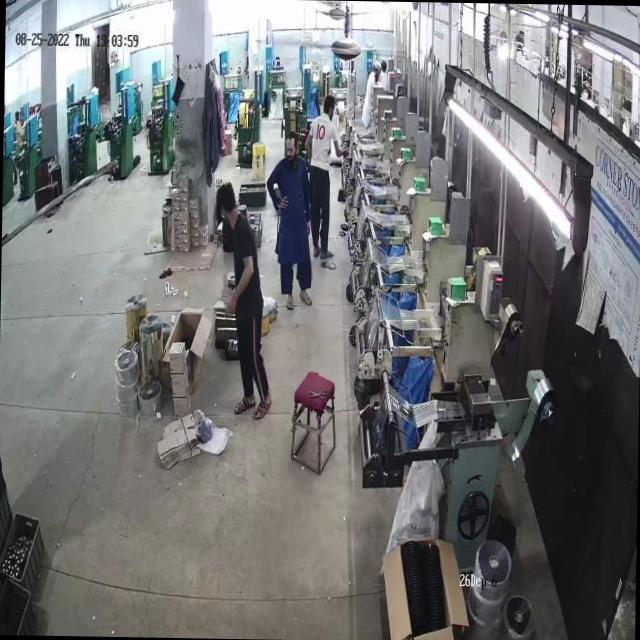person: (216, 180, 276, 418), (262, 138, 320, 304), (306, 86, 346, 264), (362, 60, 380, 128)
